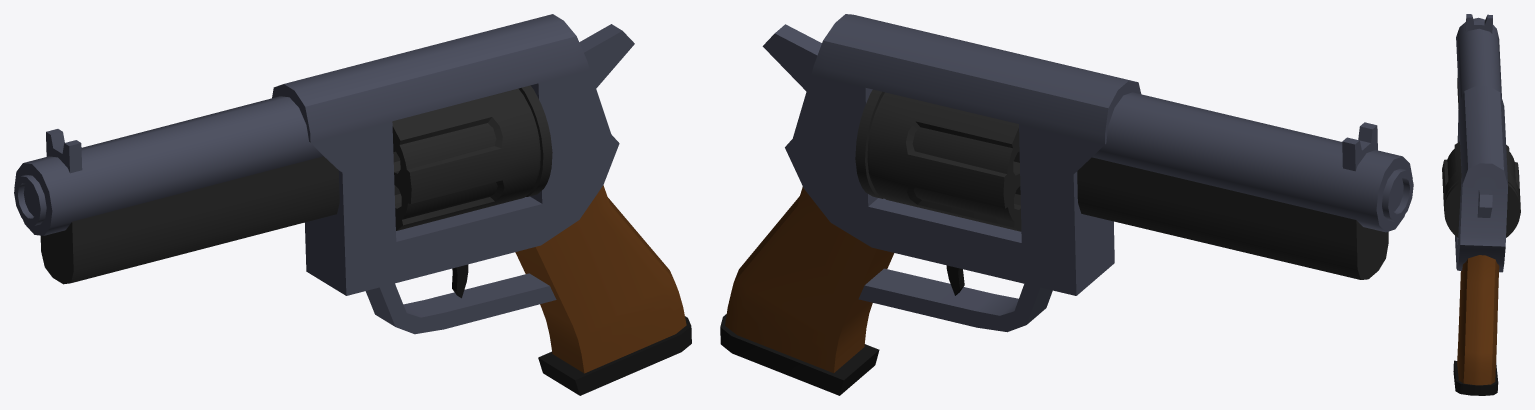
The model's file is gun.obj.
The picture shows the model from 3 angles, left to right: view 1: azimuth 30°, elevation 25°; view 2: azimuth 150°, elevation 25°; view 3: azimuth 270°, elevation 25°; orthographic projection. The views are drawn at different scales.
Parts seen in each view (by area): view 1: Revolver_gun; view 2: Revolver_gun; view 3: Revolver_gun.
Boxes of the visible parts, box(x1,y1,x2,y2) form: Revolver_gun: box(14, 14, 691, 395); Revolver_gun: box(720, 14, 1413, 395); Revolver_gun: box(1442, 14, 1520, 395).
Bounding box in the file's own units: 119 × 63.47 × 21.02.
